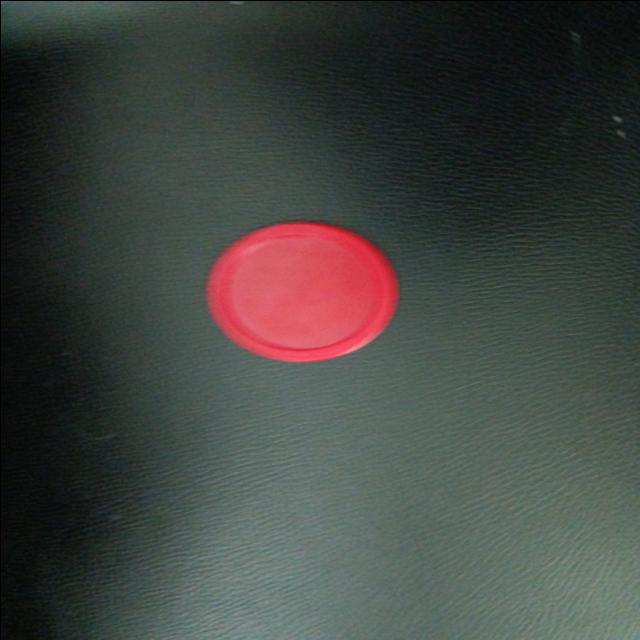chip: (202, 218, 400, 363)
